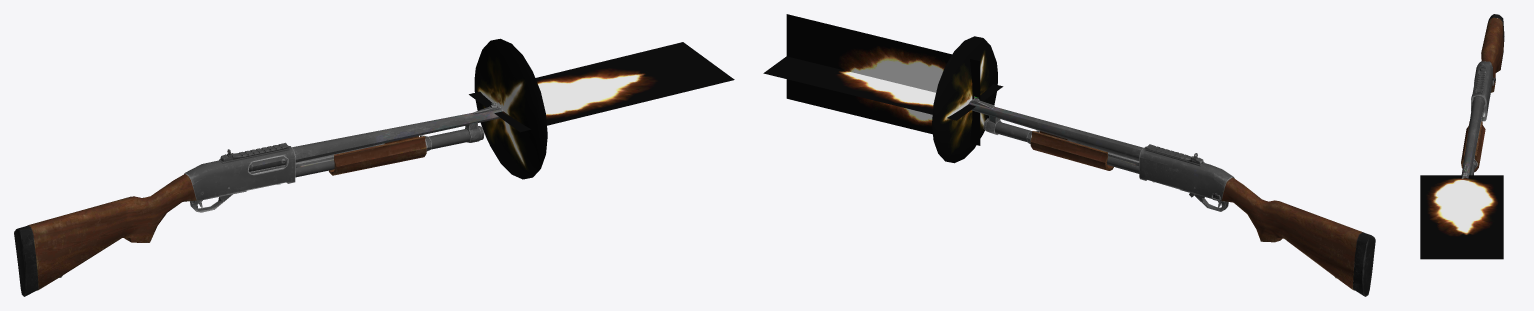
Rendered from Remington_0.glb.
3 views of the same model, side by side, from view 1: azimuth 30°, elevation 25°; view 2: azimuth 150°, elevation 25°; view 3: azimuth 270°, elevation 25° (orthographic). The views are drawn at different scales.
Visible parts, largest first — view 1: Remington_Decimated, MuzzleFlash; view 2: MuzzleFlash, Remington_Decimated; view 3: MuzzleFlash, Remington_Decimated.
Boxes of the visible parts, x1=… form: Remington_Decimated: x1=14, y1=102, x2=503, y2=296; MuzzleFlash: x1=469, y1=38, x2=734, y2=179; MuzzleFlash: x1=763, y1=14, x2=1003, y2=163; Remington_Decimated: x1=968, y1=96, x2=1375, y2=296; MuzzleFlash: x1=1420, y1=175, x2=1503, y2=259; Remington_Decimated: x1=1461, y1=14, x2=1504, y2=178.
Bounding box in the file's own units: 1.34 × 0.2936 × 0.2492.
Materials: 2 (2 with a texture image).
